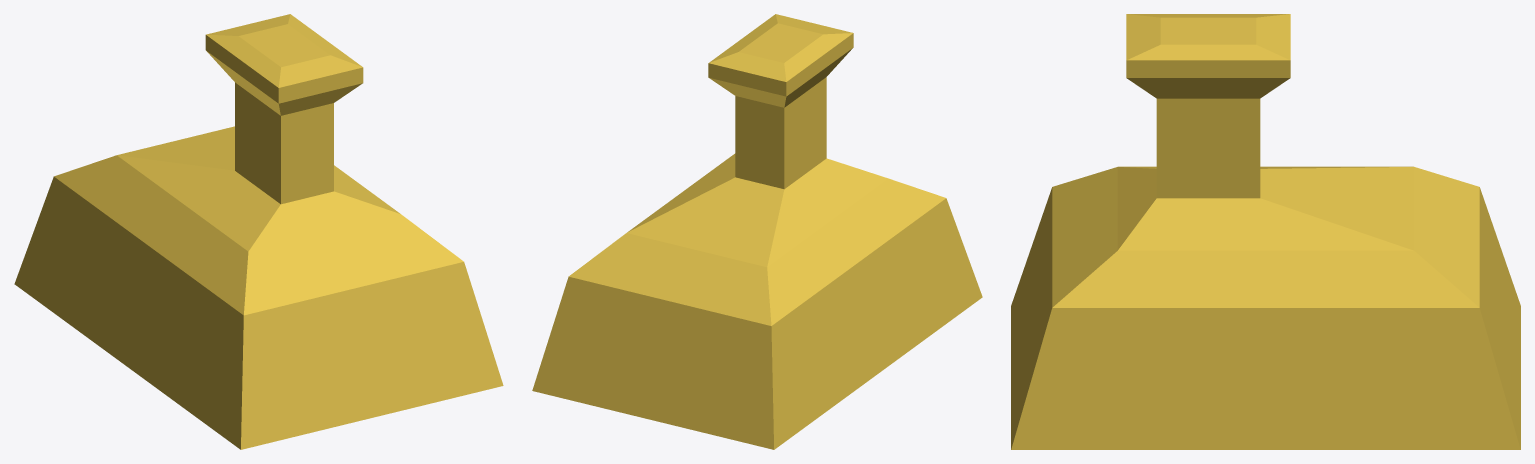
Rendered from control_SUBMIT.glb.
3 views of the same model, side by side, from view 1: azimuth 30°, elevation 25°; view 2: azimuth 150°, elevation 25°; view 3: azimuth 270°, elevation 25° (orthographic). The views are drawn at different scales.
Visible parts, largest first — view 1: Cube; view 2: Cube; view 3: Cube.
Part boxes in pixels (box(x1,y1,x2,y2)): Cube: box(14, 14, 503, 449); Cube: box(532, 14, 982, 449); Cube: box(1011, 14, 1520, 449).
Size of the model in its own units: 2 by 2.24 by 2.99.
